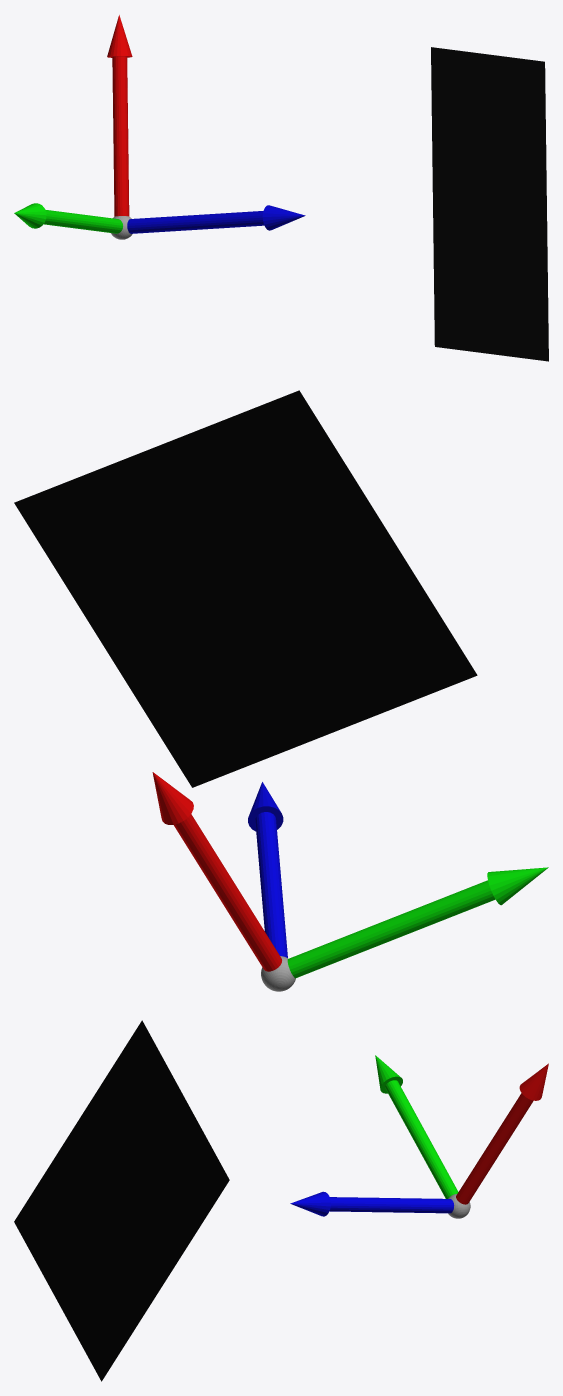
3 views of the same model, one above another, from view 1: azimuth 30°, elevation 25°; view 2: azimuth 150°, elevation 25°; view 3: azimuth 270°, elevation 25° (orthographic). The views are drawn at different scales.
Bounding box in the file's own units: 0.3089 × 0.2088 × 0.321.
